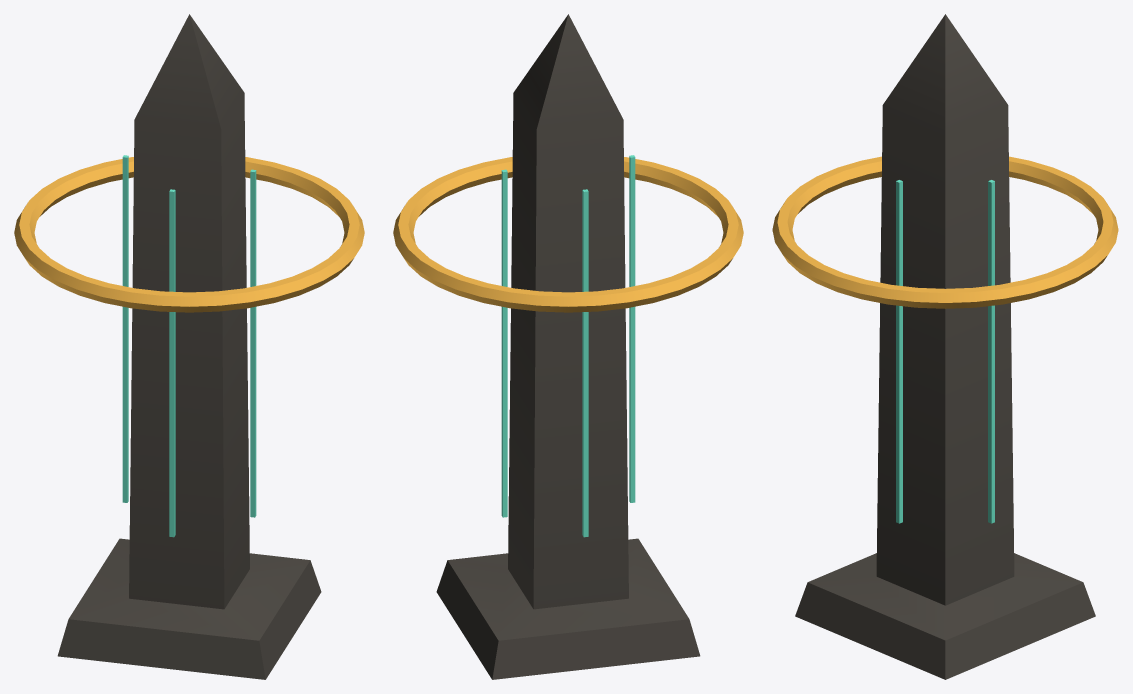
The model's file is wahrzeichen_1.obj.
3 views of the same model, side by side, from view 1: azimuth 30°, elevation 25°; view 2: azimuth 150°, elevation 25°; view 3: azimuth 270°, elevation 25° (orthographic).
Parts seen in each view (by area): view 1: wahrzeichen_1_Koerper, wahrzeichen_1_Dreh; view 2: wahrzeichen_1_Koerper, wahrzeichen_1_Dreh; view 3: wahrzeichen_1_Koerper, wahrzeichen_1_Dreh.
Boxes of the visible parts, x1,y1,x2,y2 form: wahrzeichen_1_Koerper: (57,14,321,679); wahrzeichen_1_Dreh: (14,157,364,312); wahrzeichen_1_Koerper: (436,14,700,679); wahrzeichen_1_Dreh: (393,157,743,312); wahrzeichen_1_Koerper: (795,14,1095,679); wahrzeichen_1_Dreh: (772,156,1118,308).
Size of the model in its own units: 2.76 by 5.3 by 2.76.
